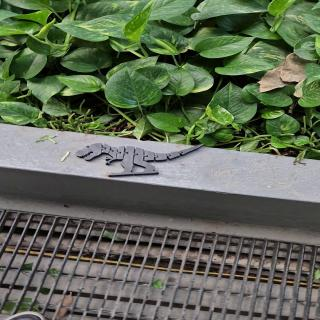dino: (74, 142, 205, 178)
